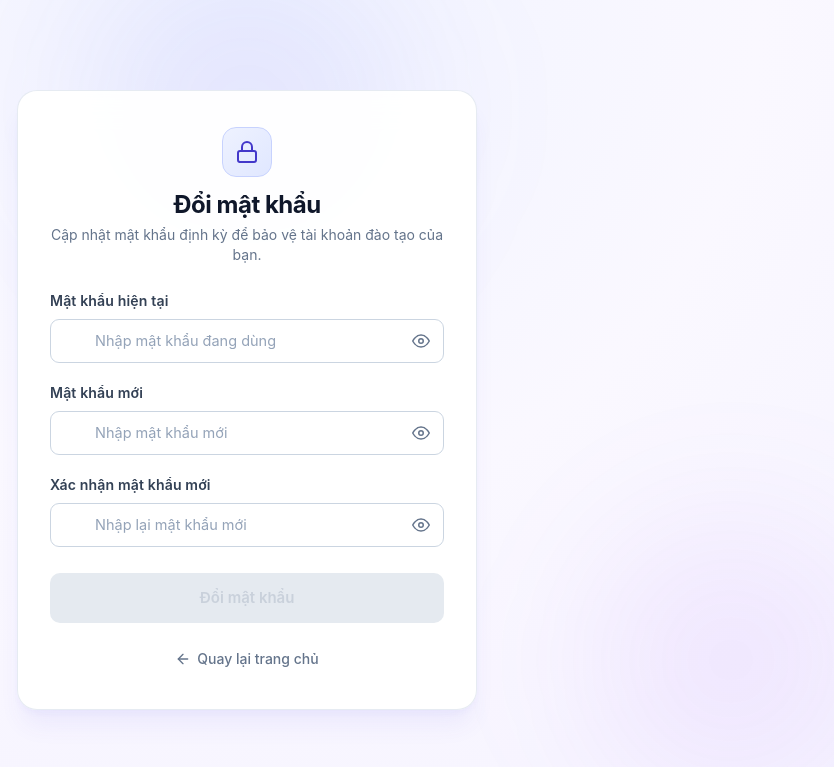
Scenario: ChangePasswordPage (SCRUM-52) › 16. SCRUM-59: lỗi máy chủ (server error 500) hoặc lỗi mạng được hiển thị rõ ràng trên giao diện
In the password field labelled "Mật khẩu hiện tại": (247, 341) [50,319,444,363], type "CurrentPass123!"
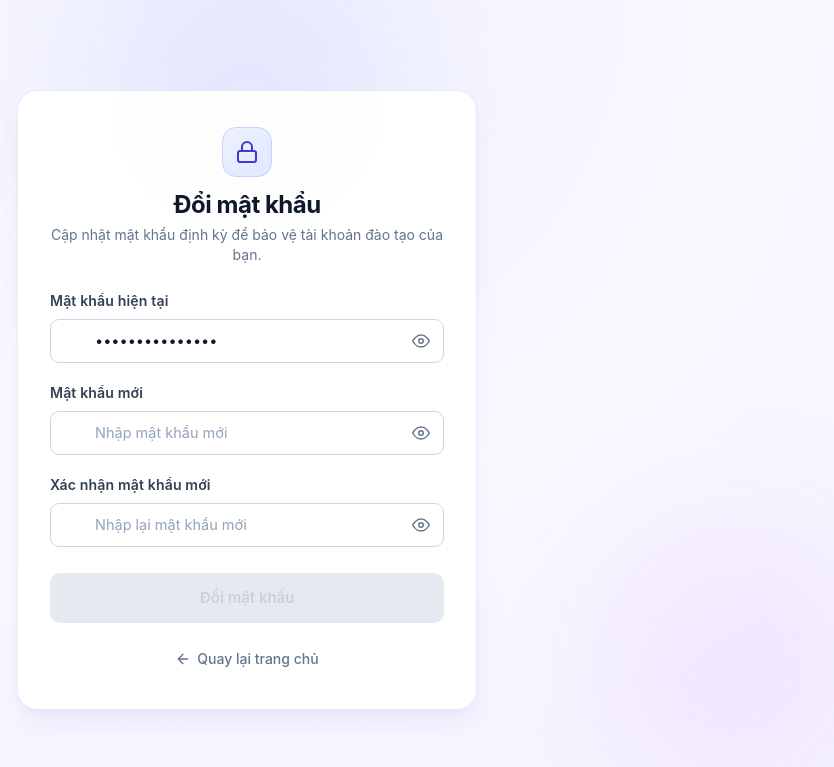
In the password field labelled "Mật khẩu mới": (247, 433) [50,411,444,455], type "NewValidPass456!"
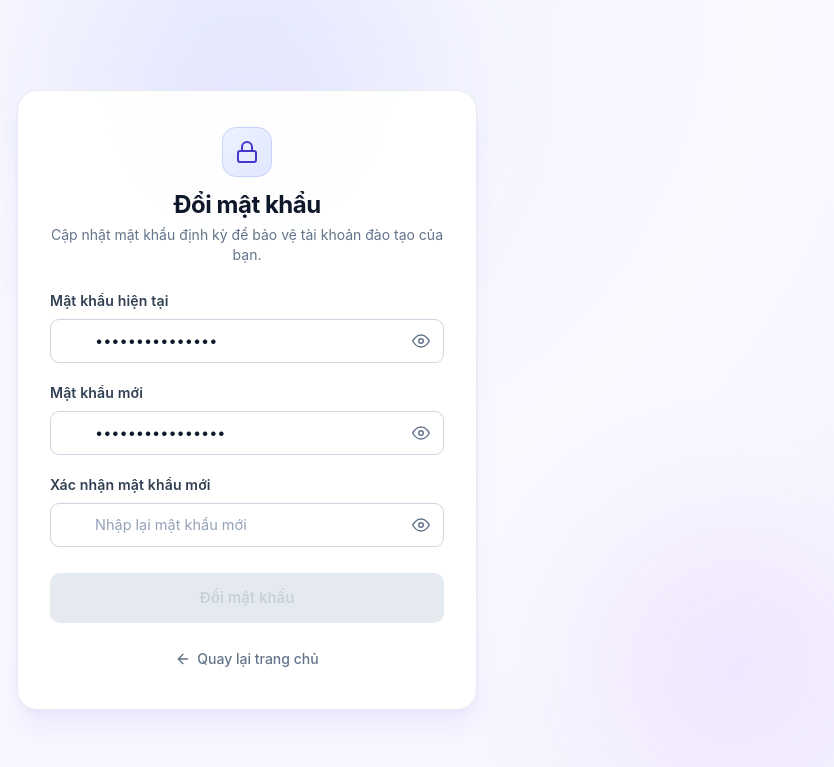
In the password field labelled "Xác nhận mật khẩu mới": (247, 525) [50,503,444,547], type "NewValidPass456!"
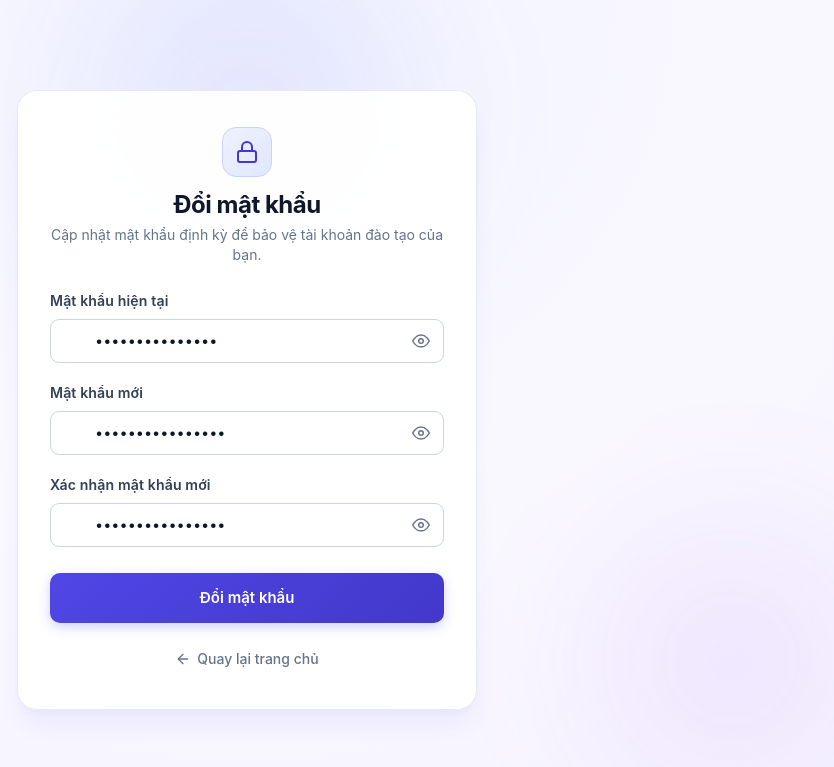
Click the button "Đổi mật khẩu": (247, 598) [50,573,444,623]
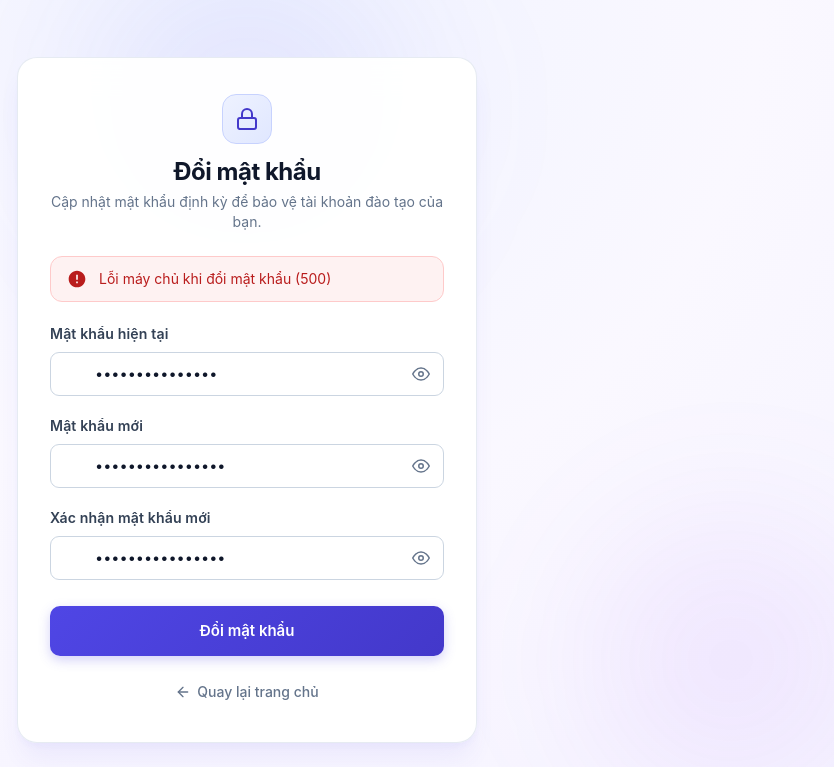
Check: the message "Lỗi máy chủ khi đổi mật khẩu (500)" is shown, box [50,256,444,302]
Check: the text "Lỗi máy chủ khi đổi mật khẩu (500)" is shown, box [99,269,331,288]
